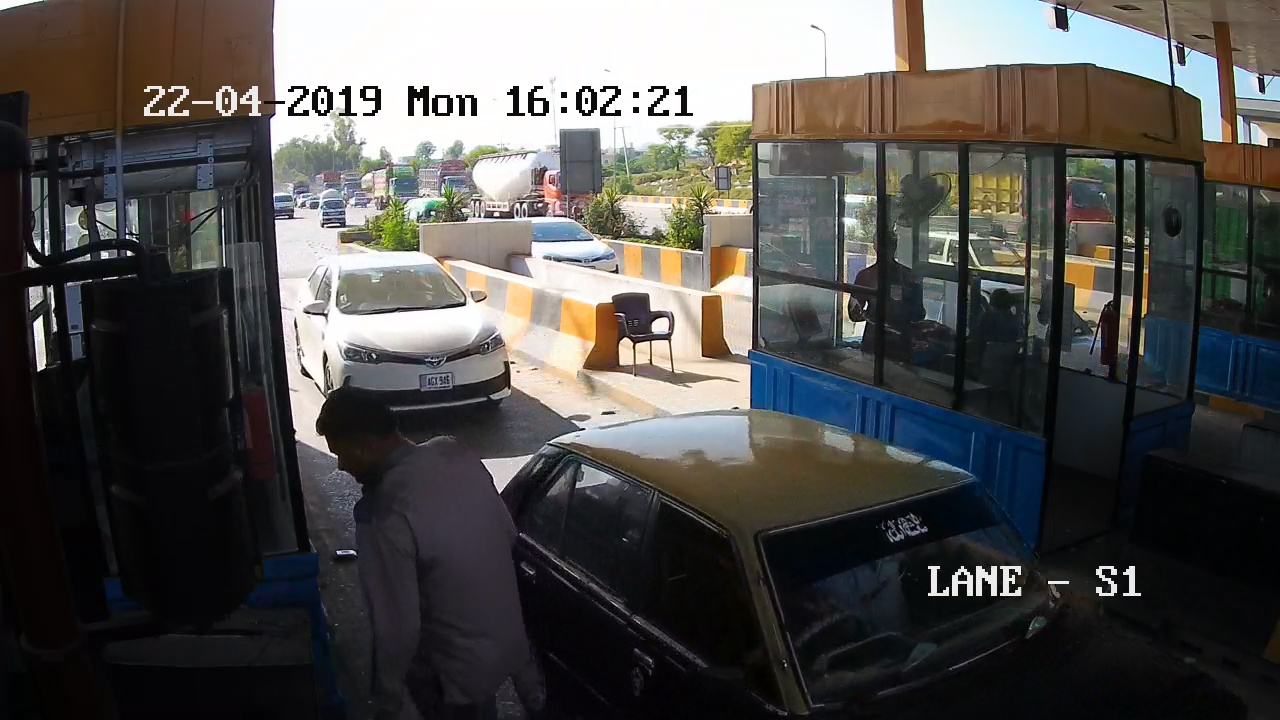car: (556, 422, 956, 702), (290, 259, 523, 441)
